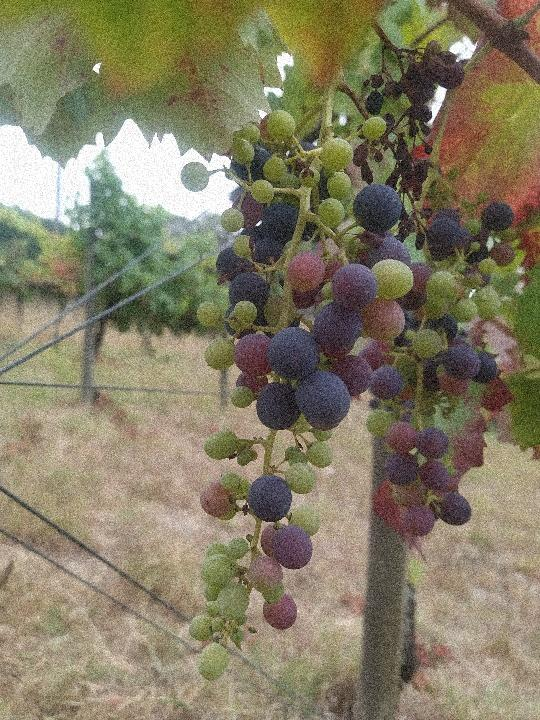grape: (180, 86, 413, 685), (366, 202, 525, 540), (354, 42, 466, 257)
